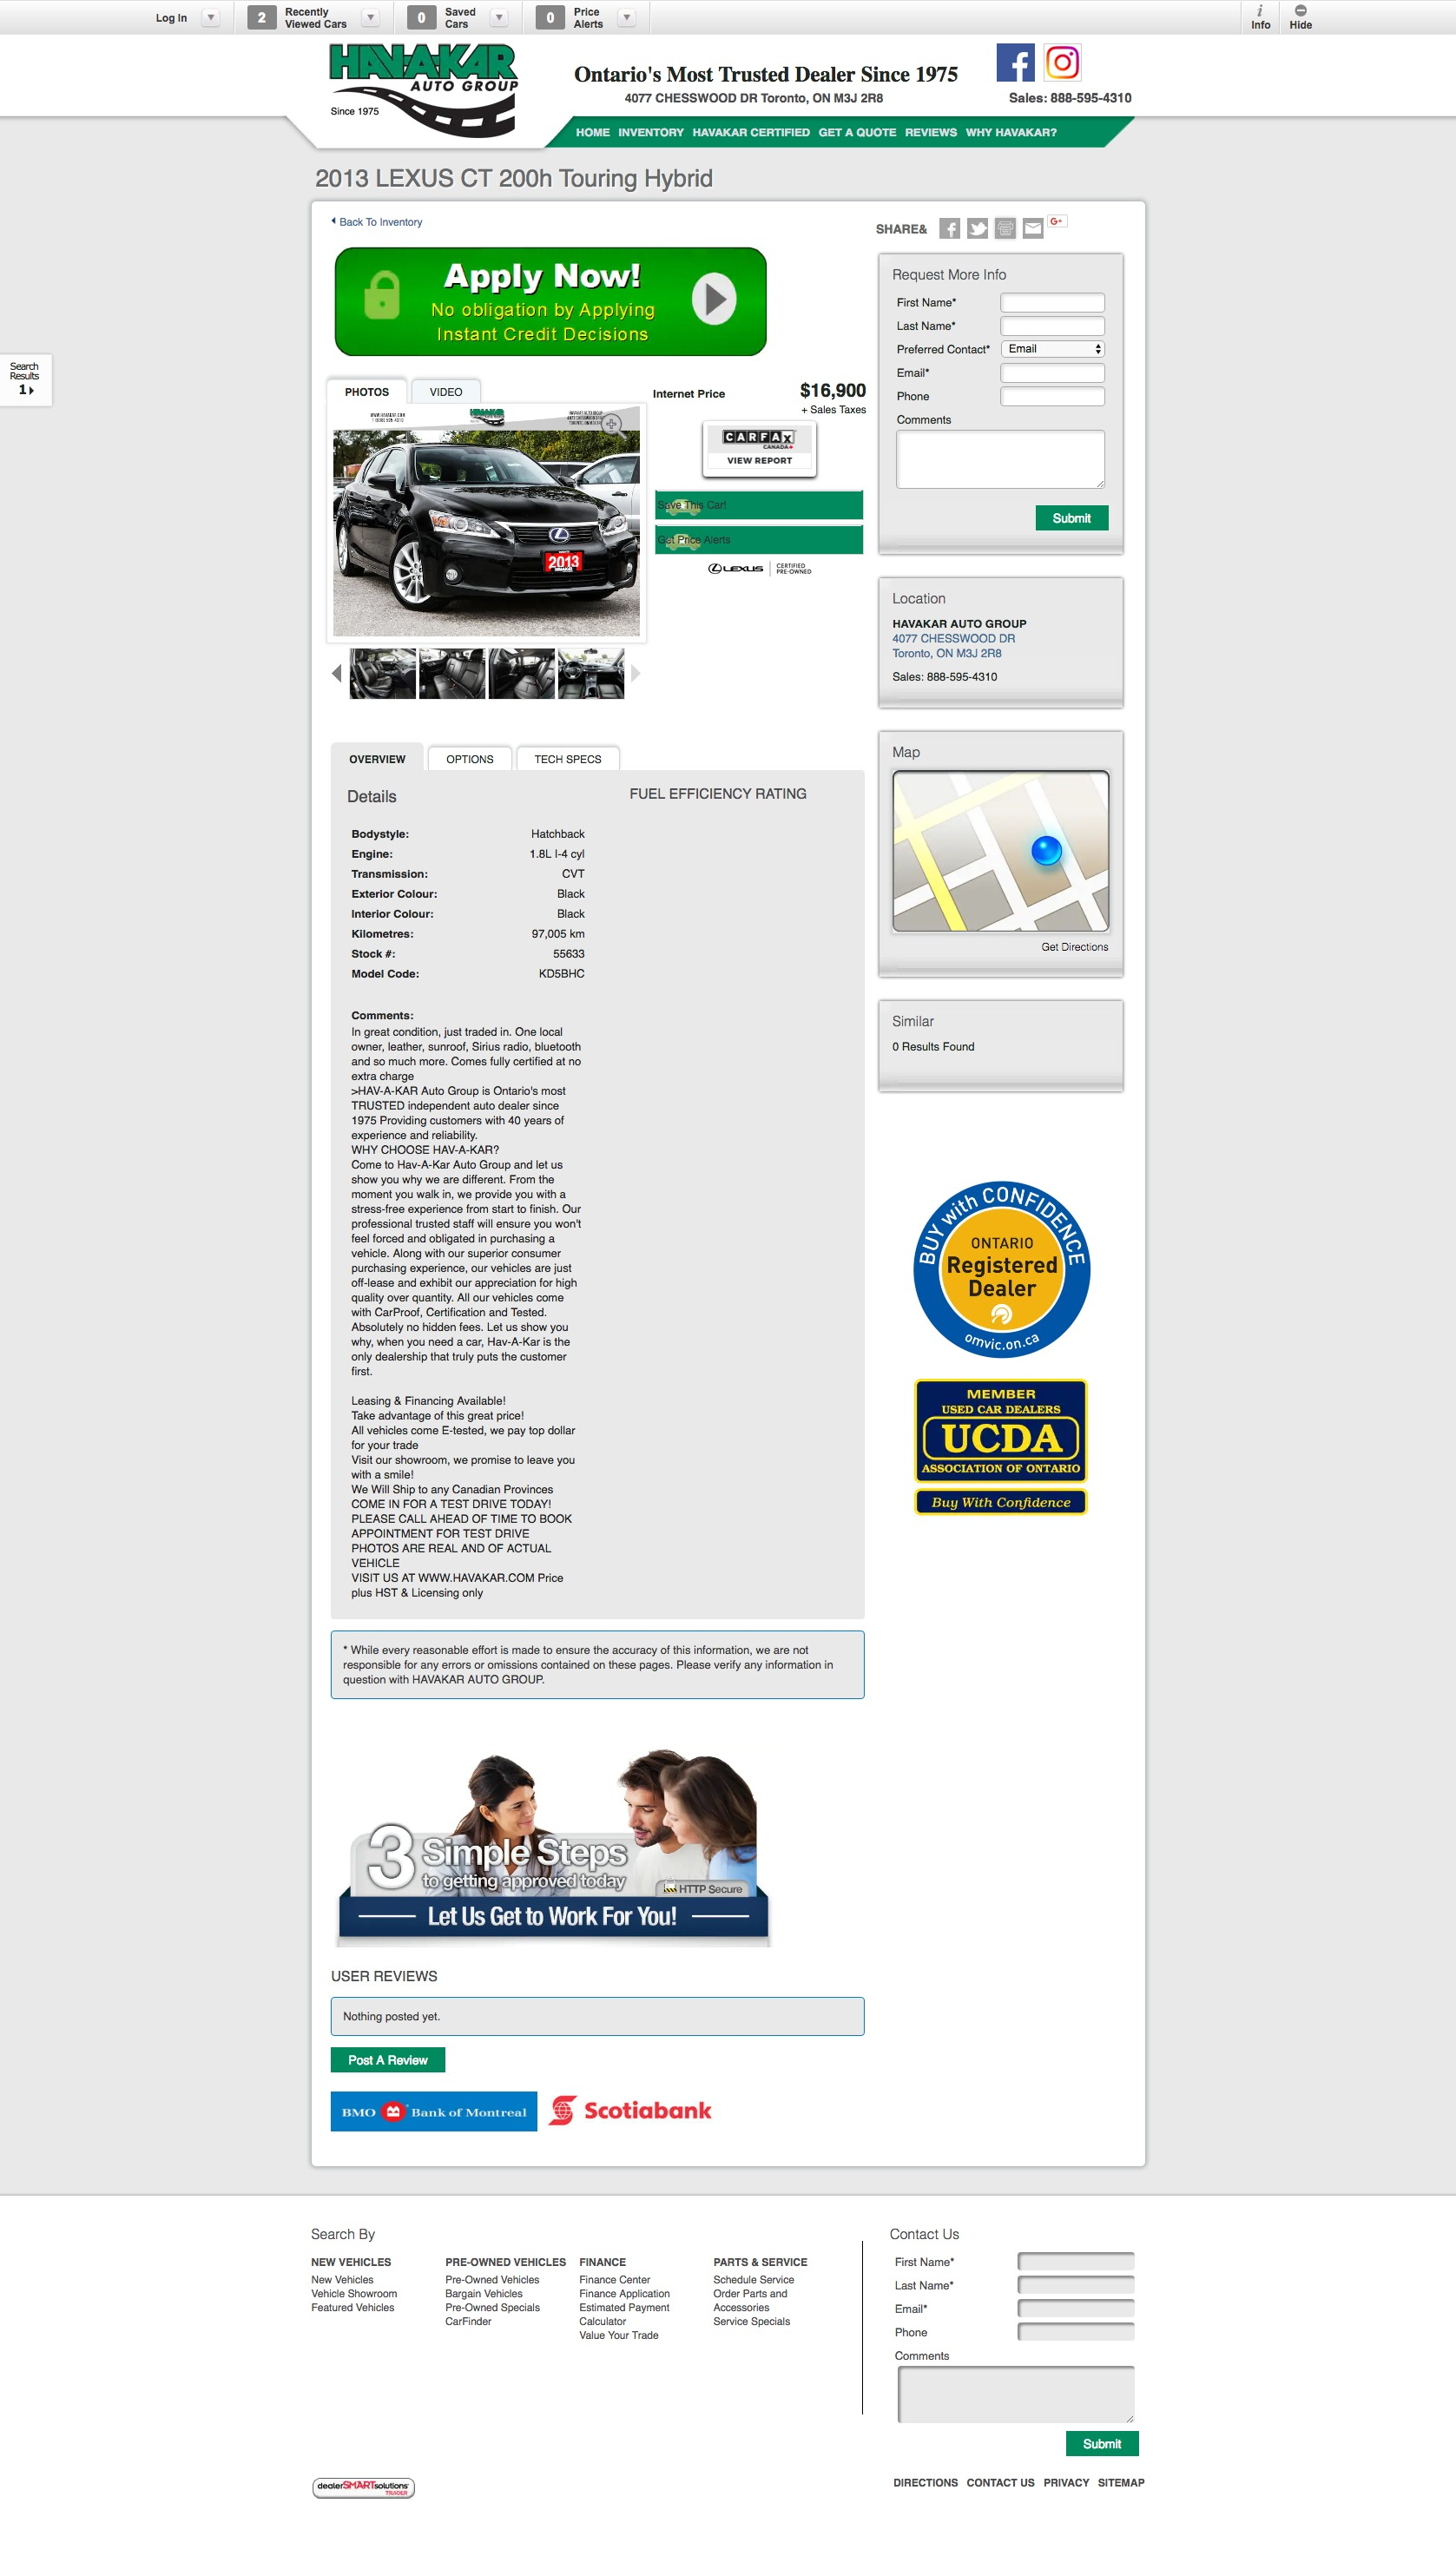car: (631, 664, 641, 683)
